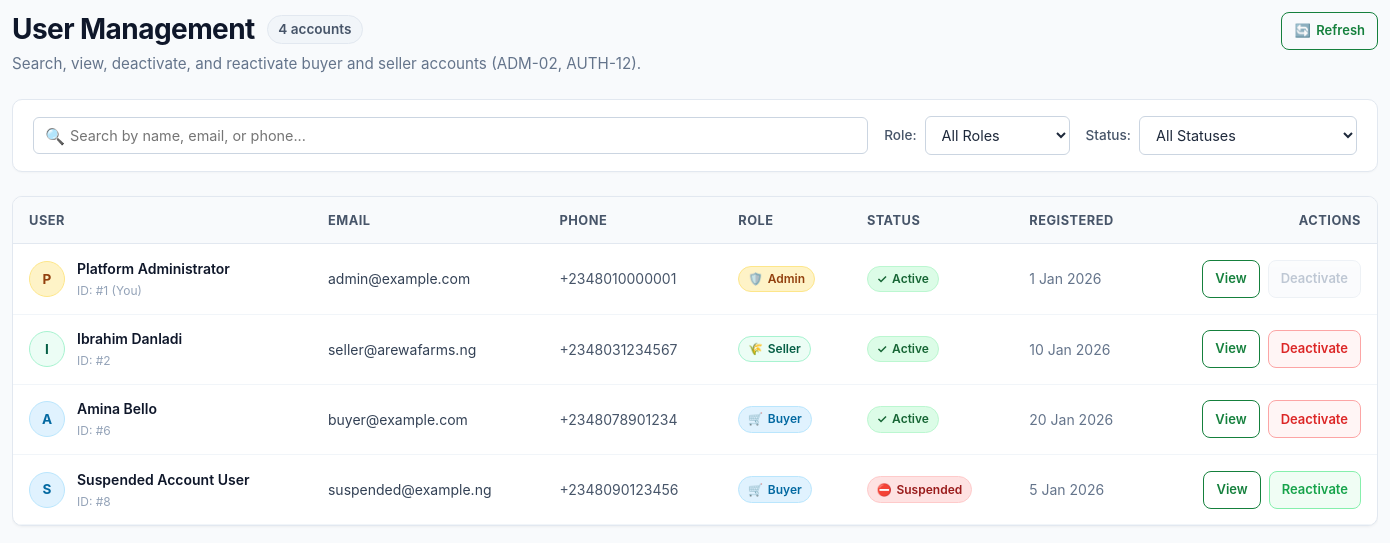
Scenario: FE-097 / ADM-02: Admin Users Management Page › 2. Search & Filter Controls (ADM-02) › clears active filters when Reset Filters button is clicked
The width and height of the screenshot is (1390, 543).
Type "Arewa" into the search field with test id "search-users-input" at (451, 136), box [33,117,868,154]
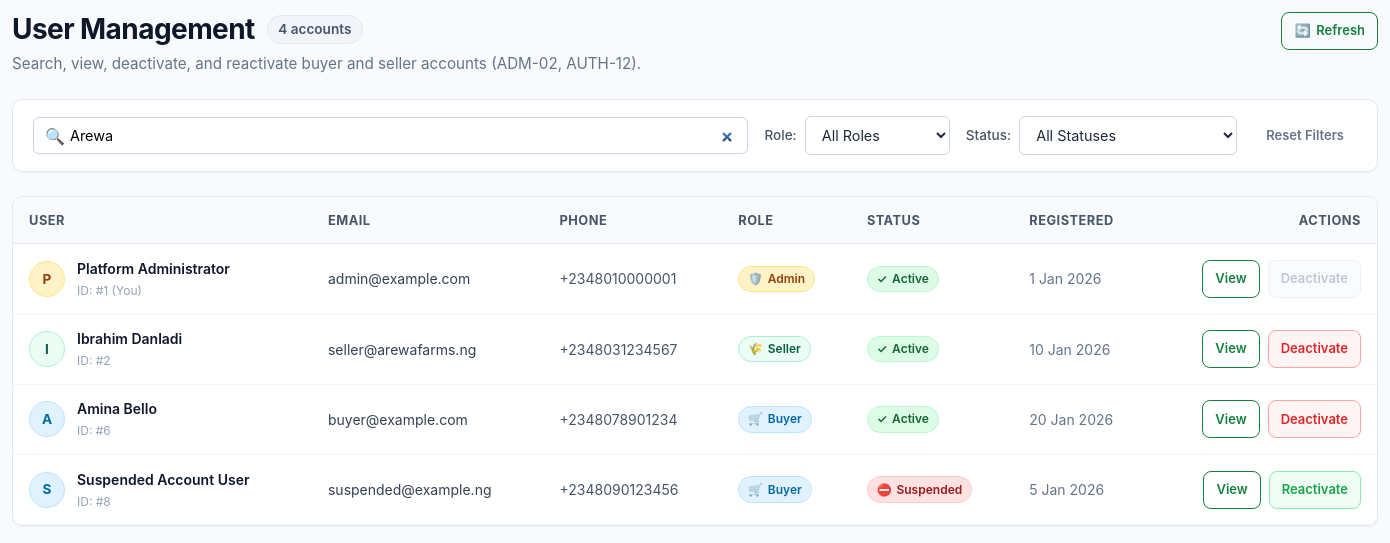
# Clear button appears
Click the button with test id "clear-filters-btn" at (1305, 136), box [1253,117,1357,155]
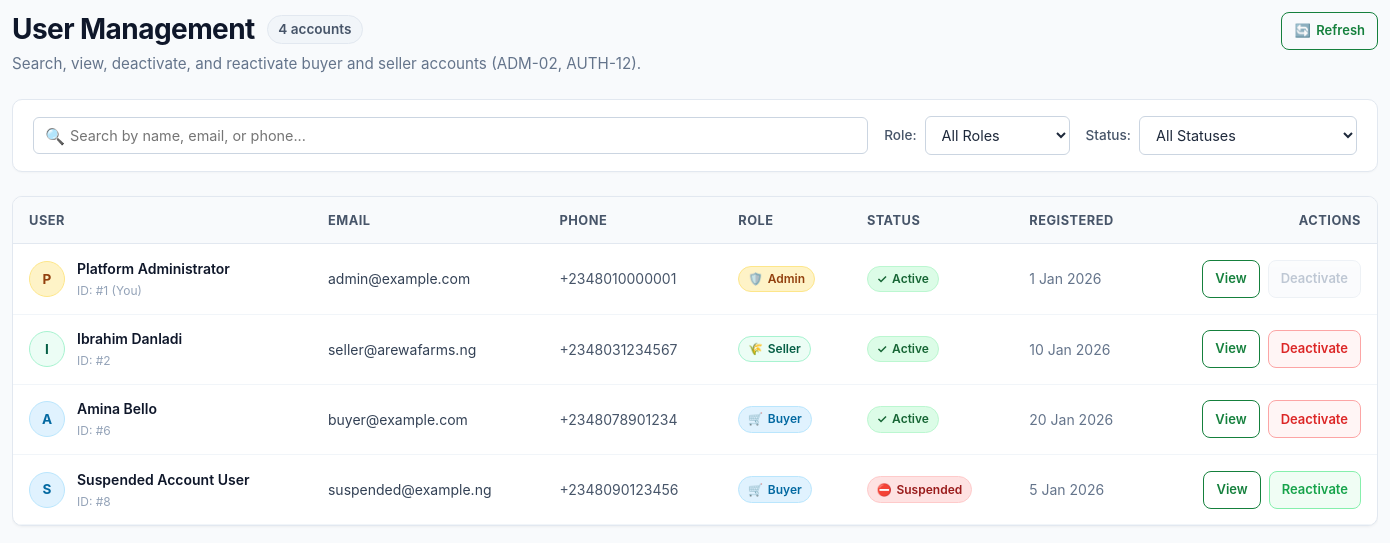
Expected: the search field with test id "search-users-input" is empty, [33,117,868,154]
